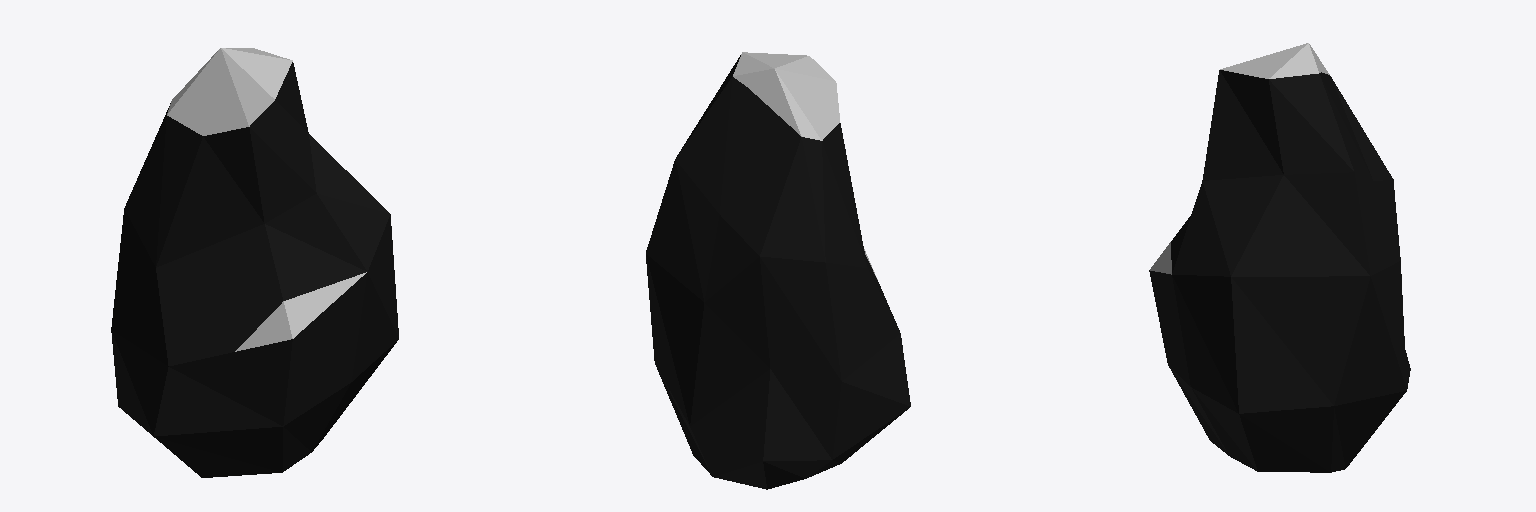
File: rockbig.obj
3 renders of one model, left to right at view 1: azimuth 30°, elevation 25°; view 2: azimuth 150°, elevation 25°; view 3: azimuth 270°, elevation 25°, orthographic.
Visible parts, largest first — view 1: rockbig_Plane.003; view 2: rockbig_Plane.003; view 3: rockbig_Plane.003.
Boxes of the visible parts, x1,y1,x2,y2 form: rockbig_Plane.003: [111, 48, 398, 477]; rockbig_Plane.003: [646, 52, 910, 489]; rockbig_Plane.003: [1149, 43, 1410, 472].
Bounding box in the file's own units: 2.45 × 3.87 × 2.26.